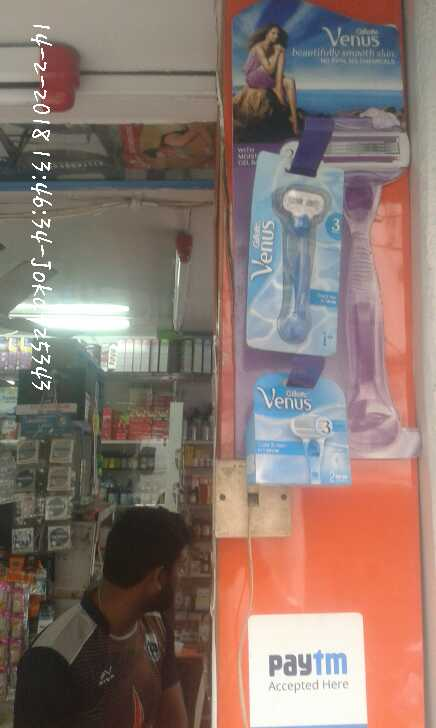venus: (250, 157, 343, 362), (253, 375, 348, 489)
